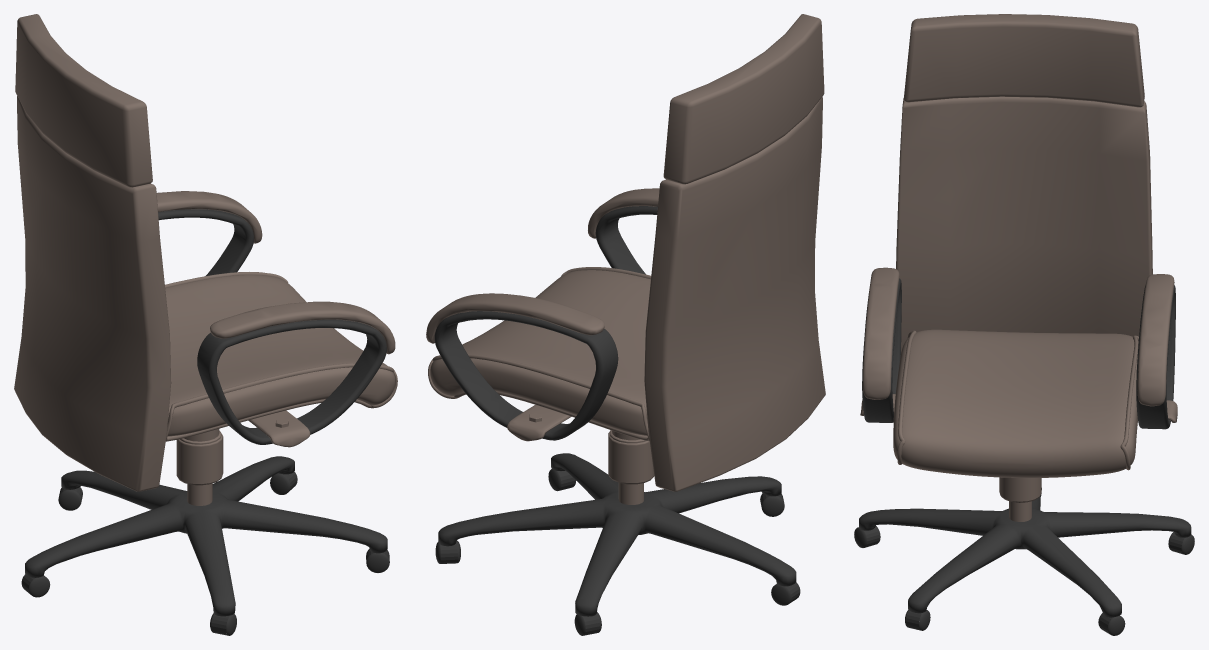
Rendered from chair3.glb.
The picture shows the model from 3 angles, left to right: view 1: azimuth 30°, elevation 25°; view 2: azimuth 150°, elevation 25°; view 3: azimuth 270°, elevation 25°; orthographic projection. The views are drawn at different scales.
Visible parts, largest first — view 1: Obj3d66-9787757-229-447, Obj3d66-9787757-225-496, Obj3d66-9787757-237-436, Obj3d66-9787757-228-194, Obj3d66-9787757-236-51, Obj3d66-9787757-226-704, Obj3d66-9787757-238-133, Obj3d66-9787757-227-296; view 2: Obj3d66-9787757-229-447, Obj3d66-9787757-225-496, Obj3d66-9787757-237-436, Obj3d66-9787757-228-194, Obj3d66-9787757-236-51, Obj3d66-9787757-226-704, Obj3d66-9787757-238-133, Obj3d66-9787757-227-296; view 3: Obj3d66-9787757-229-447, Obj3d66-9787757-225-496, Obj3d66-9787757-228-194, Obj3d66-9787757-237-436, Obj3d66-9787757-226-704, Obj3d66-9787757-236-51, Obj3d66-9787757-238-133.
Boxes of the visible parts, x1,y1,x2,y2 form: Obj3d66-9787757-229-447: (14,96,171,491); Obj3d66-9787757-225-496: (165,272,397,441); Obj3d66-9787757-237-436: (25,456,387,616); Obj3d66-9787757-228-194: (15,14,152,187); Obj3d66-9787757-236-51: (158,209,386,444); Obj3d66-9787757-226-704: (156,191,395,354); Obj3d66-9787757-238-133: (176,429,223,505); Obj3d66-9787757-227-296: (248,410,310,447); Obj3d66-9787757-229-447: (644,97,825,491); Obj3d66-9787757-225-496: (428,267,651,441); Obj3d66-9787757-237-436: (438,453,796,616); Obj3d66-9787757-228-194: (663,14,824,184); Obj3d66-9787757-236-51: (434,206,657,440); Obj3d66-9787757-226-704: (426,188,659,343); Obj3d66-9787757-238-133: (608,430,654,504); Obj3d66-9787757-227-296: (507,405,571,441); Obj3d66-9787757-229-447: (896,96,1152,352); Obj3d66-9787757-225-496: (893,329,1138,477); Obj3d66-9787757-228-194: (903,14,1144,107); Obj3d66-9787757-237-436: (859,495,1191,617); Obj3d66-9787757-226-704: (862,267,1174,406); Obj3d66-9787757-236-51: (862,278,1175,429); Obj3d66-9787757-238-133: (999,477,1041,521).
Size of the model in its own units: 0.6476 by 1.04 by 0.6487.
